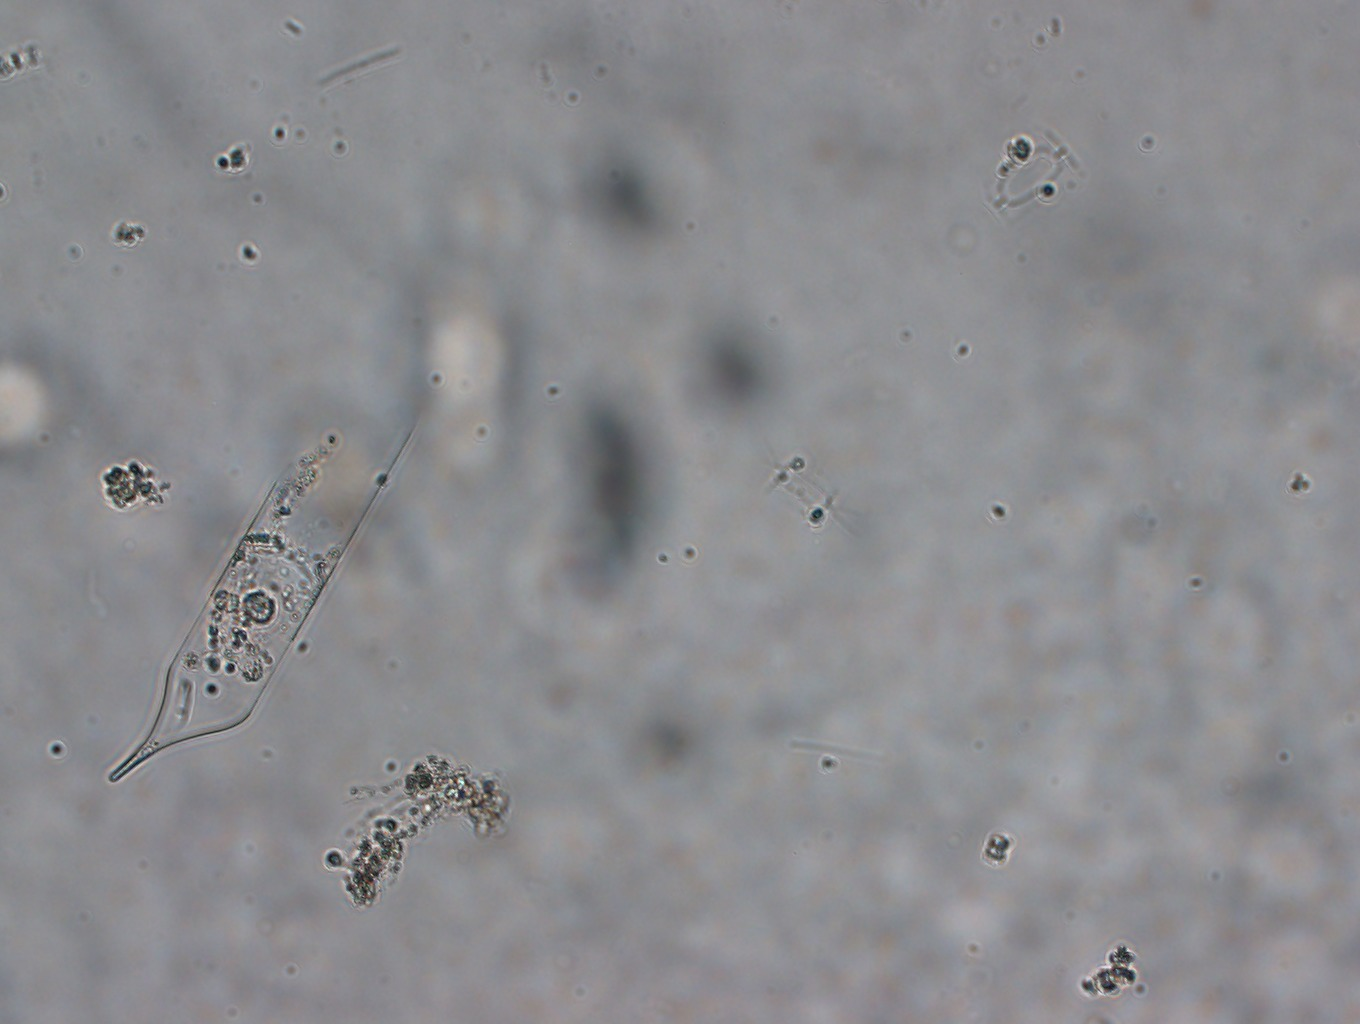rhizosolenia: (108, 402, 419, 782)
